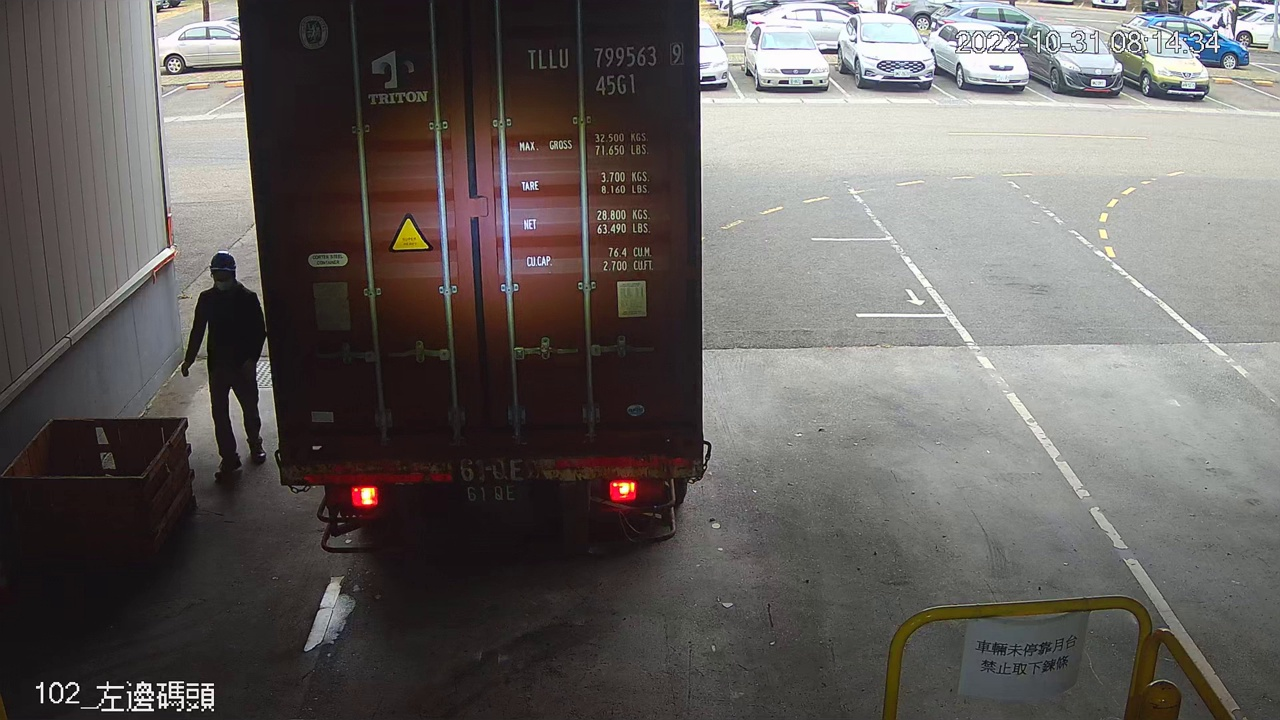container: (519, 39, 687, 102)
